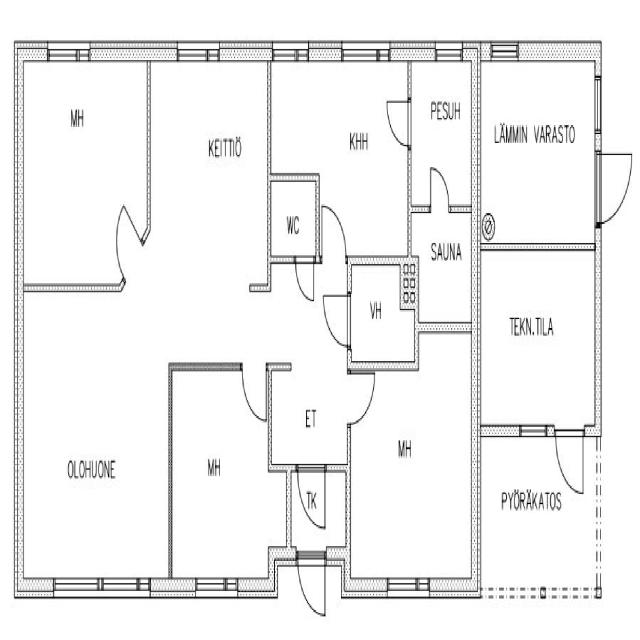door: (294, 460, 327, 620), (108, 194, 146, 282), (594, 143, 635, 221), (293, 459, 328, 532), (295, 546, 327, 620), (556, 425, 586, 497), (322, 282, 353, 348), (239, 361, 270, 426), (347, 362, 378, 426), (318, 198, 348, 264), (384, 91, 414, 152), (426, 160, 452, 214), (292, 249, 317, 305)
window: (338, 35, 391, 67), (384, 570, 434, 601), (52, 568, 102, 599), (174, 35, 222, 66), (45, 34, 90, 67), (100, 567, 147, 598), (191, 571, 239, 601), (431, 34, 468, 67), (591, 61, 605, 141), (486, 35, 522, 66), (270, 37, 311, 64), (517, 416, 551, 442)
zone: (15, 289, 171, 586), (476, 99, 600, 443), (344, 342, 479, 594), (14, 54, 151, 288), (148, 56, 271, 295), (167, 362, 276, 590), (475, 56, 598, 252), (262, 61, 410, 199), (408, 56, 477, 213), (412, 206, 476, 331), (346, 256, 416, 369), (268, 174, 320, 262)
